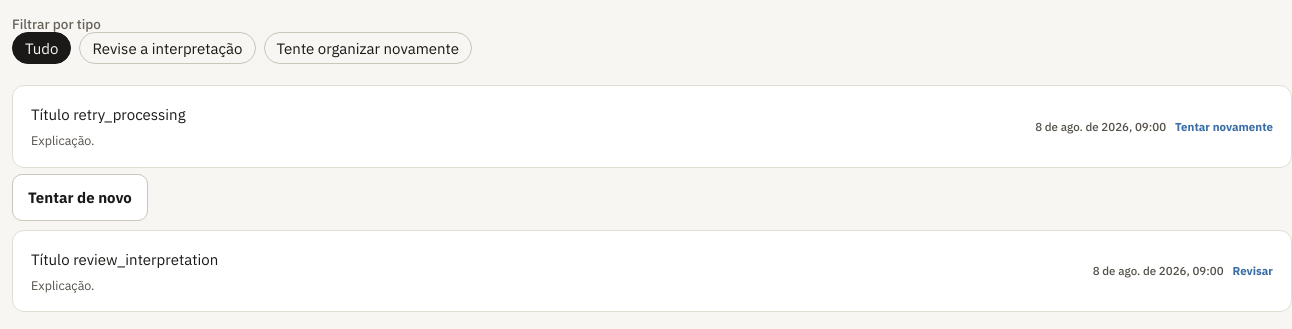
2J-ATTN-005: filtering narrows what is loaded, without a second query › narrows the list and reports when the narrowing empties it
The image size is (1292, 329).
Click the button "Revise a interpretação" at (168, 48), box [80,32,256,64]
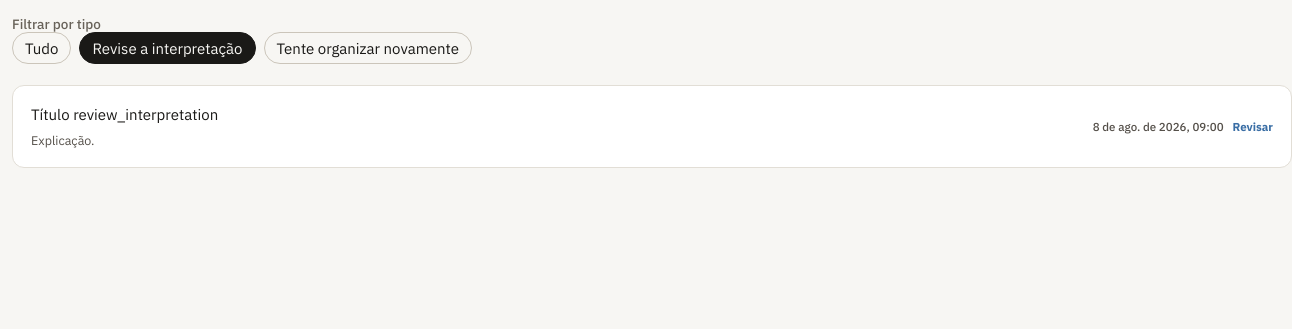
Expected: the text "Título review_interpretation" is shown, [31,105,218,124]
Expected: the link "Título retry_processing" is gone
